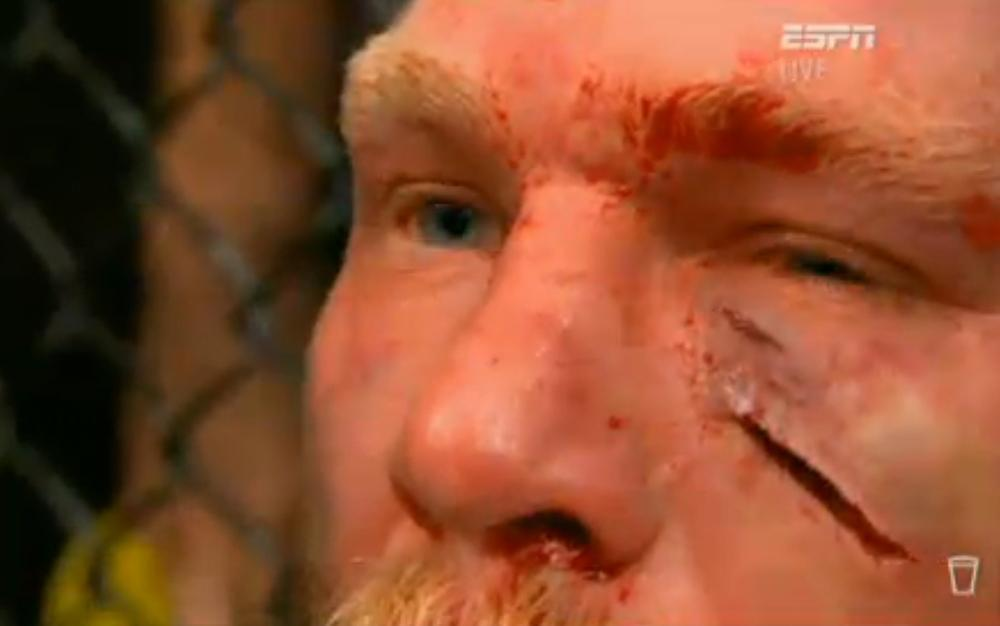Fire: (509, 70, 872, 190), (734, 414, 913, 560)
